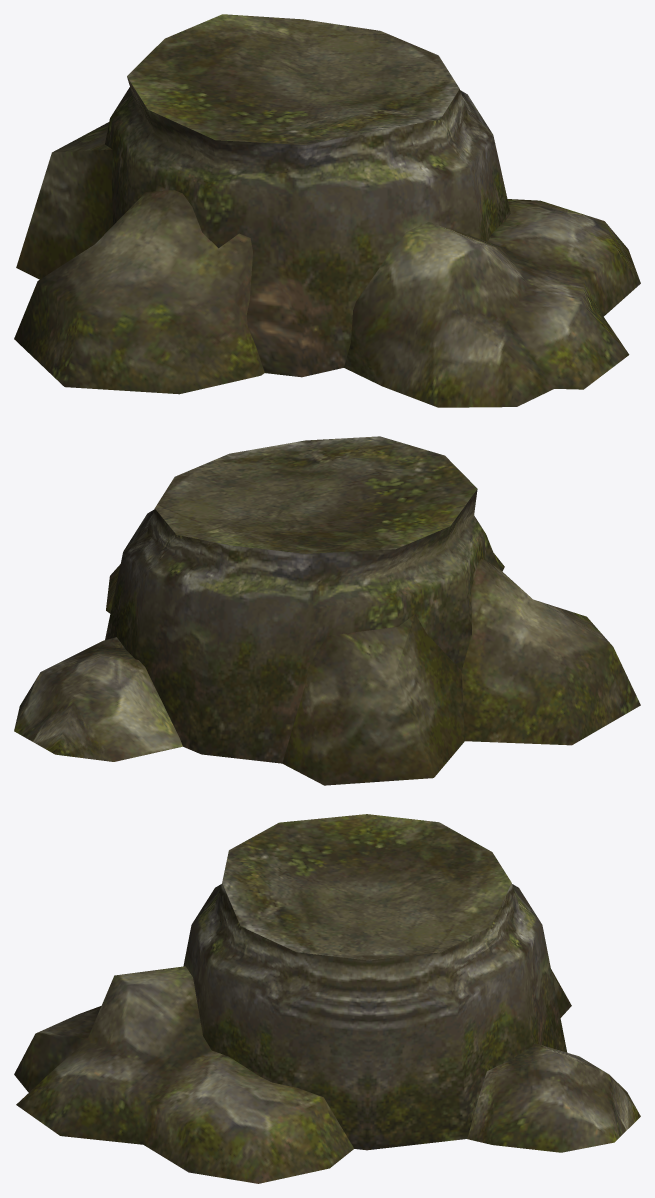
The model's file is 4009_Item_shidun_1.FBX.
3 views of the same model, one above another, from view 1: azimuth 30°, elevation 25°; view 2: azimuth 150°, elevation 25°; view 3: azimuth 270°, elevation 25° (orthographic). The views are drawn at different scales.
Visible parts, largest first — view 1: 4009_Item_shidun_1; view 2: 4009_Item_shidun_1; view 3: 4009_Item_shidun_1.
Boxes of the visible parts, x1,y1,x2,y2 form: 4009_Item_shidun_1: (14,14,640,407); 4009_Item_shidun_1: (14,436,640,785); 4009_Item_shidun_1: (14,814,640,1183).
Size of the model in its own units: 141 by 47.46 by 148.
